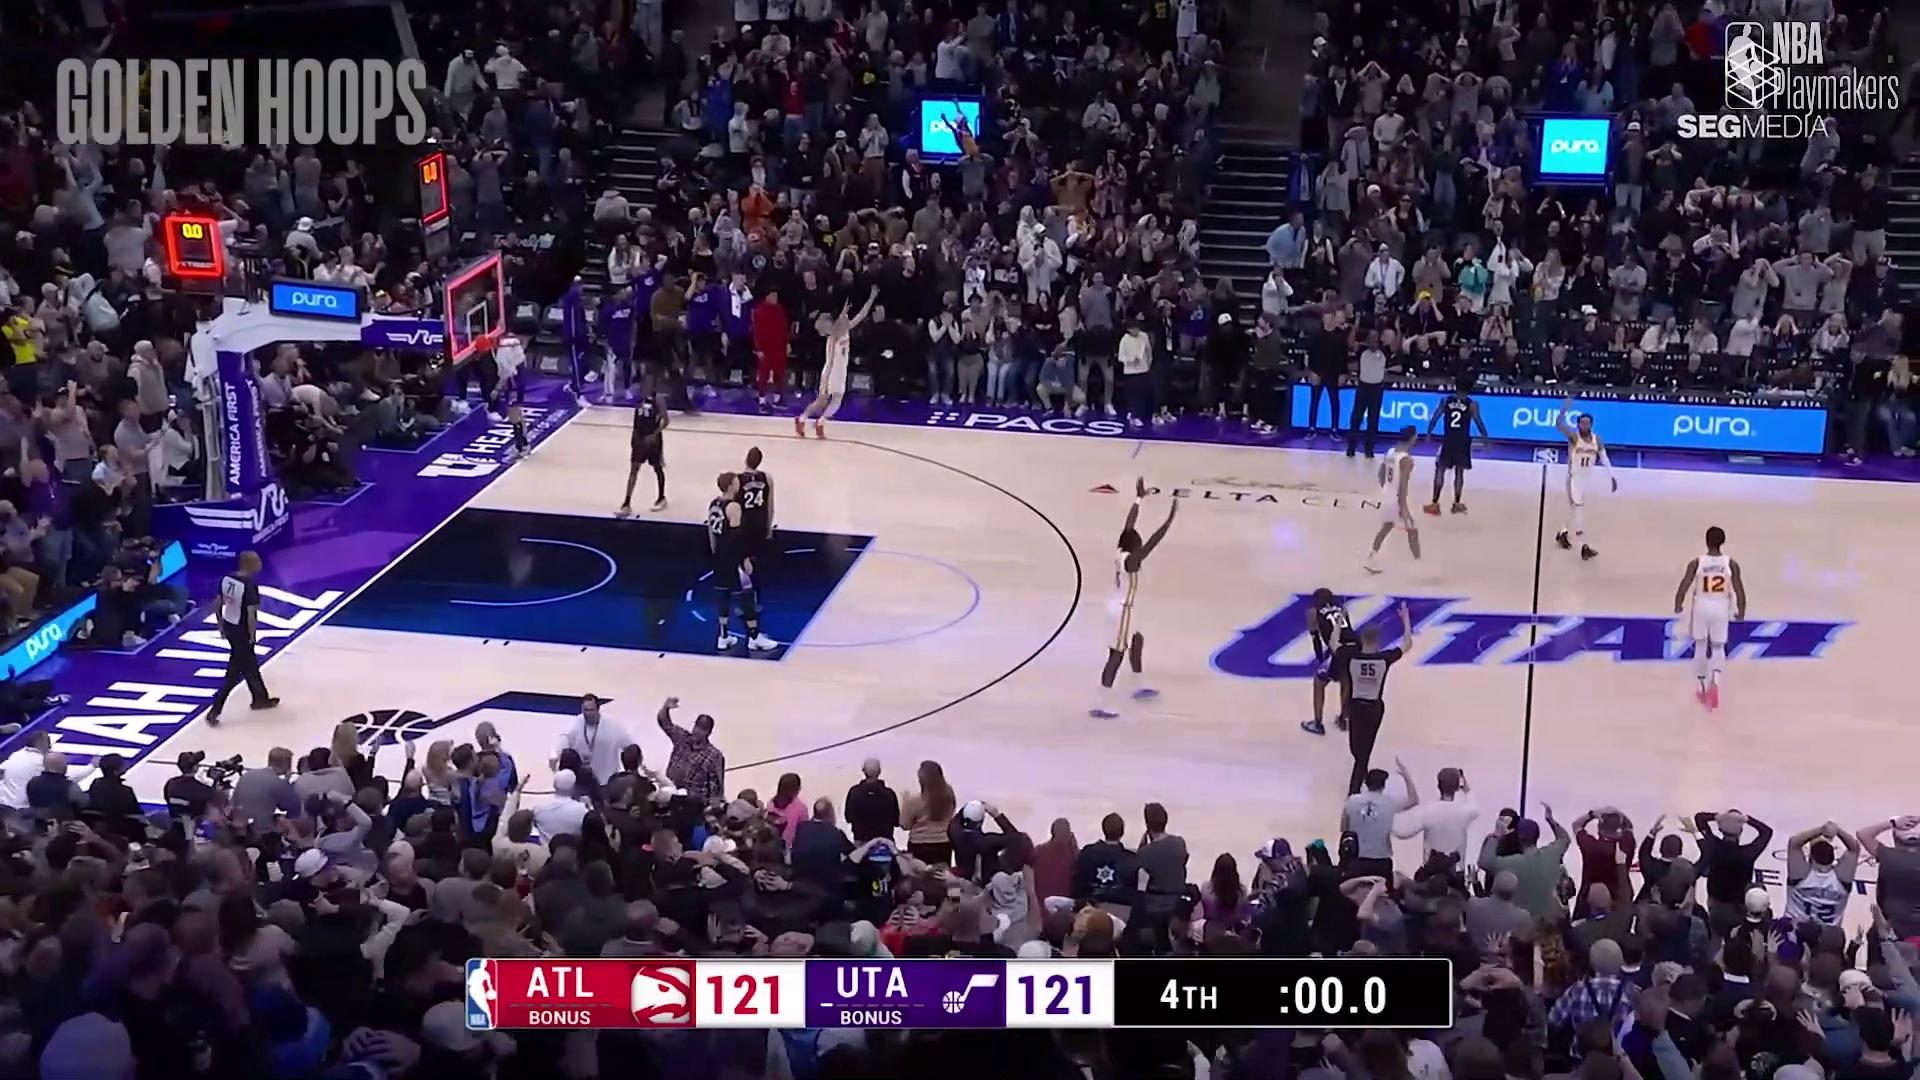hoop: (484, 328, 527, 381)
